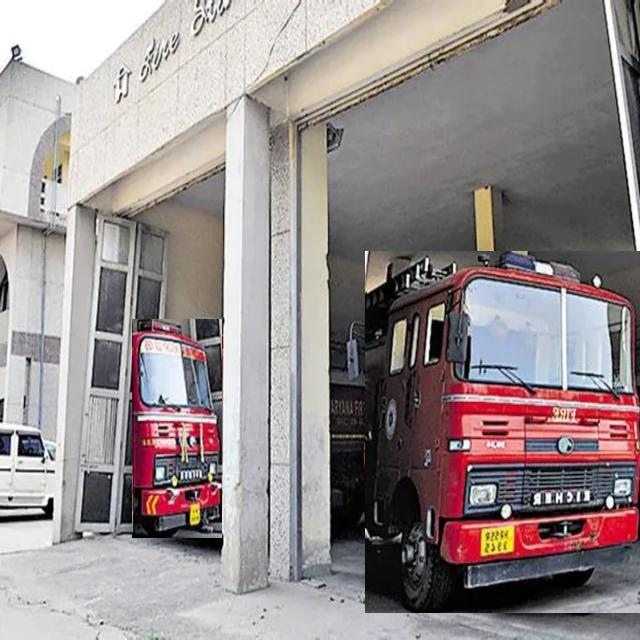car: (0, 423, 55, 516)
emergency: (365, 251, 640, 613), (132, 320, 222, 538)
